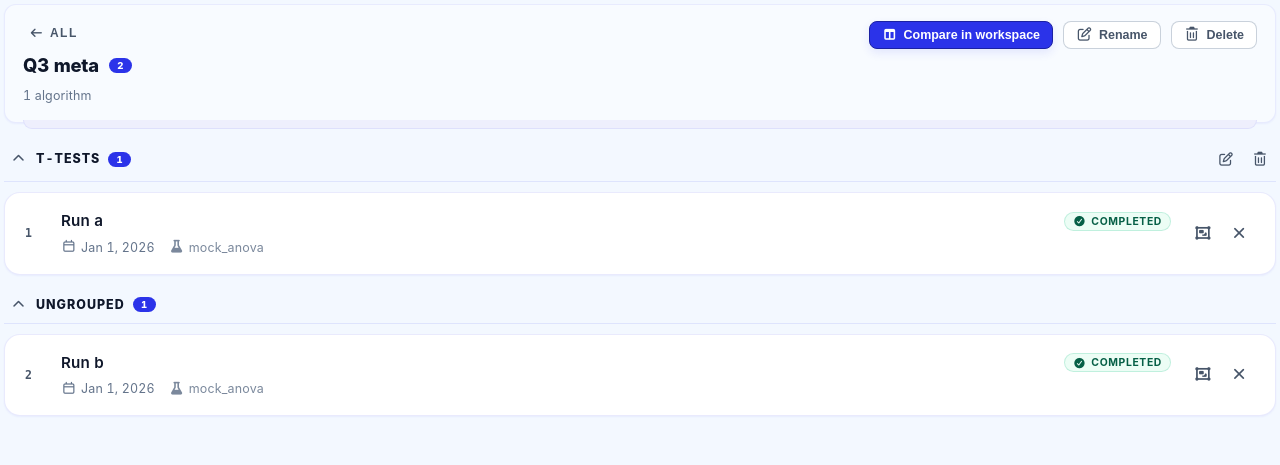
ExperimentFolderComponent › sets › leaves a set for Ungrouped without leaving the folder
The width and height of the screenshot is (1280, 465).
Click the button with class "icon-btn" in the row of "Run a" at (1203, 234), box [1187,218,1219,250]
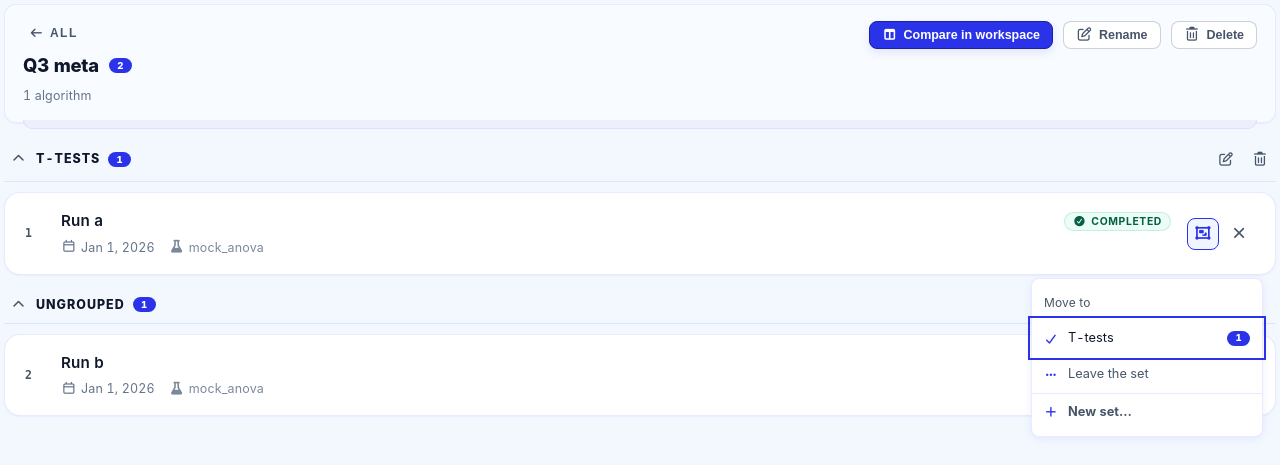
Click the menu item with class "set-menu__item--unset" at (1147, 375), box [1032,356,1262,393]
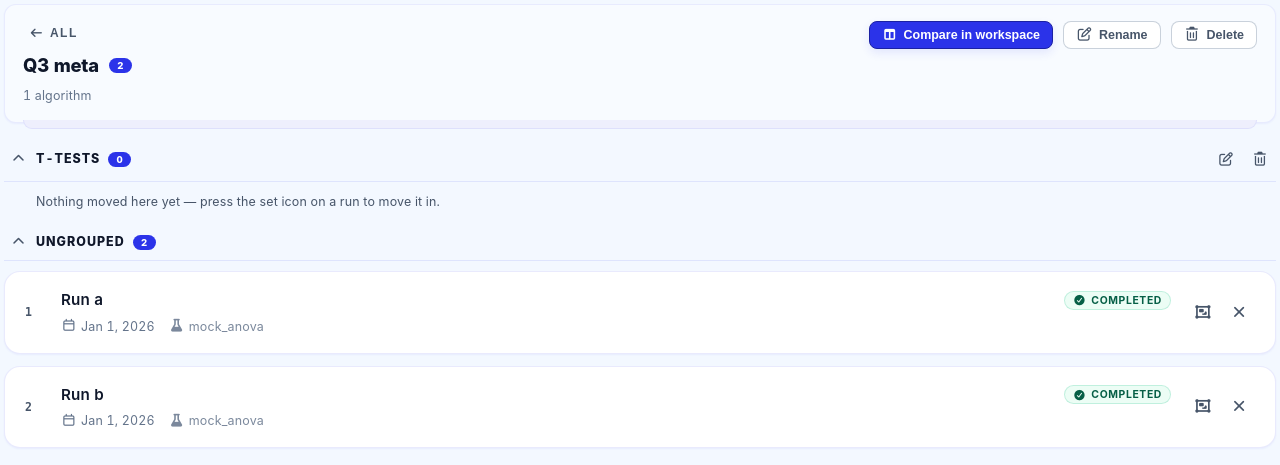
Now the menu with class "set-menu" is gone
Now the text with class "member-group-empty" is shown, box [36,194,440,209]
